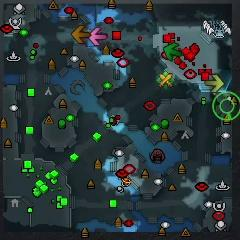Other: (212, 92, 240, 121), (156, 72, 175, 91)
x1: (88, 28, 107, 46)
x2: (205, 75, 224, 92)
x4: (164, 43, 181, 61)
x5: (71, 25, 90, 44)
